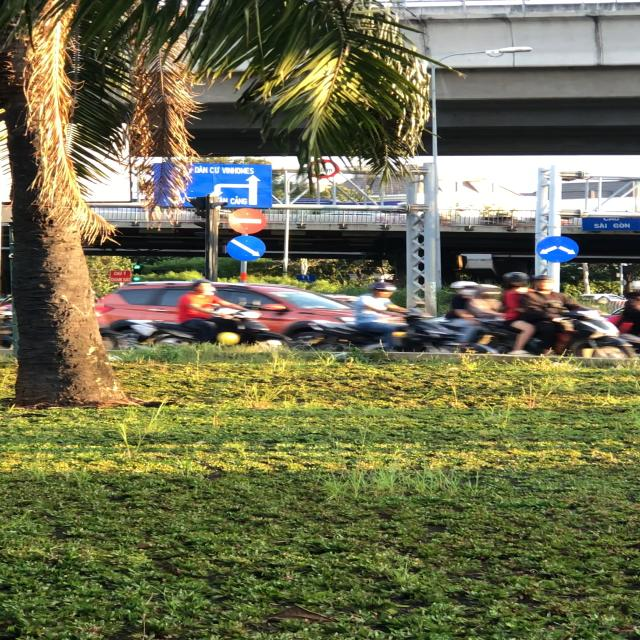Bien bao cam di nguoc chieu: (223, 205, 270, 235)
Bien bao huong phai di vong chuong ngai vat: (535, 235, 585, 264), (224, 234, 270, 262)
